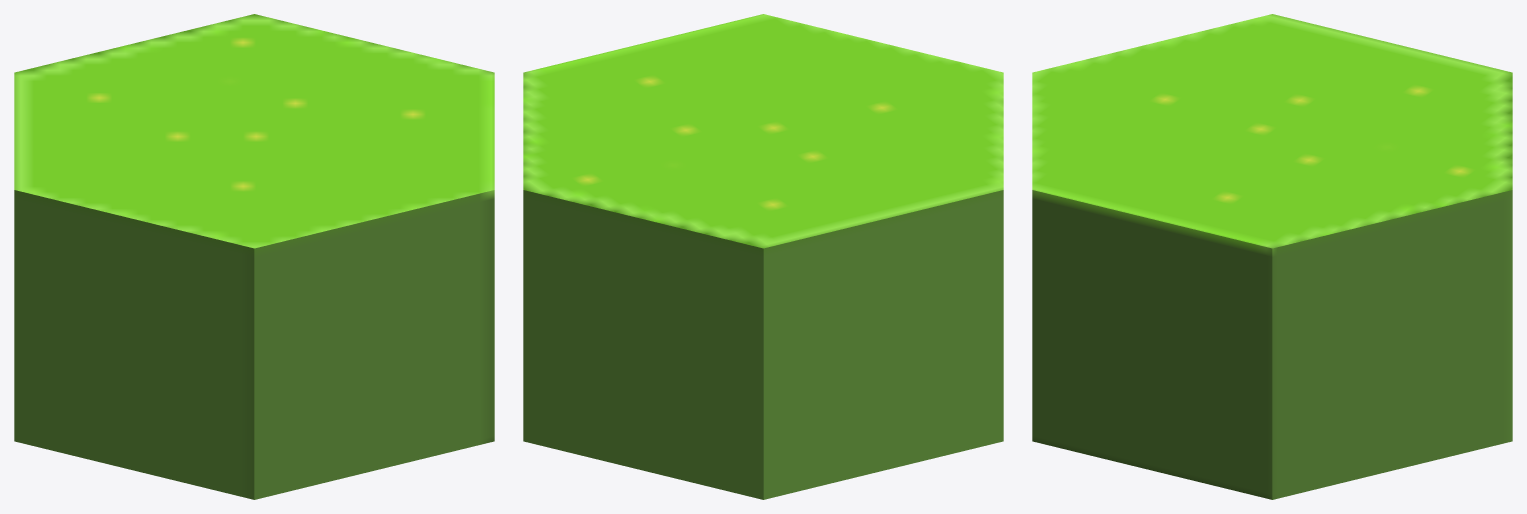
The model's file is ground.dae.
3 views of the same model, side by side, from view 1: azimuth 30°, elevation 25°; view 2: azimuth 150°, elevation 25°; view 3: azimuth 270°, elevation 25° (orthographic).
Parts seen in each view (by area): view 1: ground; view 2: ground; view 3: ground.
Part boxes in pixels (<box>): ground: <box>14,14,494,499</box>; ground: <box>523,14,1003,499</box>; ground: <box>1032,14,1512,499</box>.
Size of the model in its own units: 100 by 50 by 86.6.
1 material, 1 textured.
